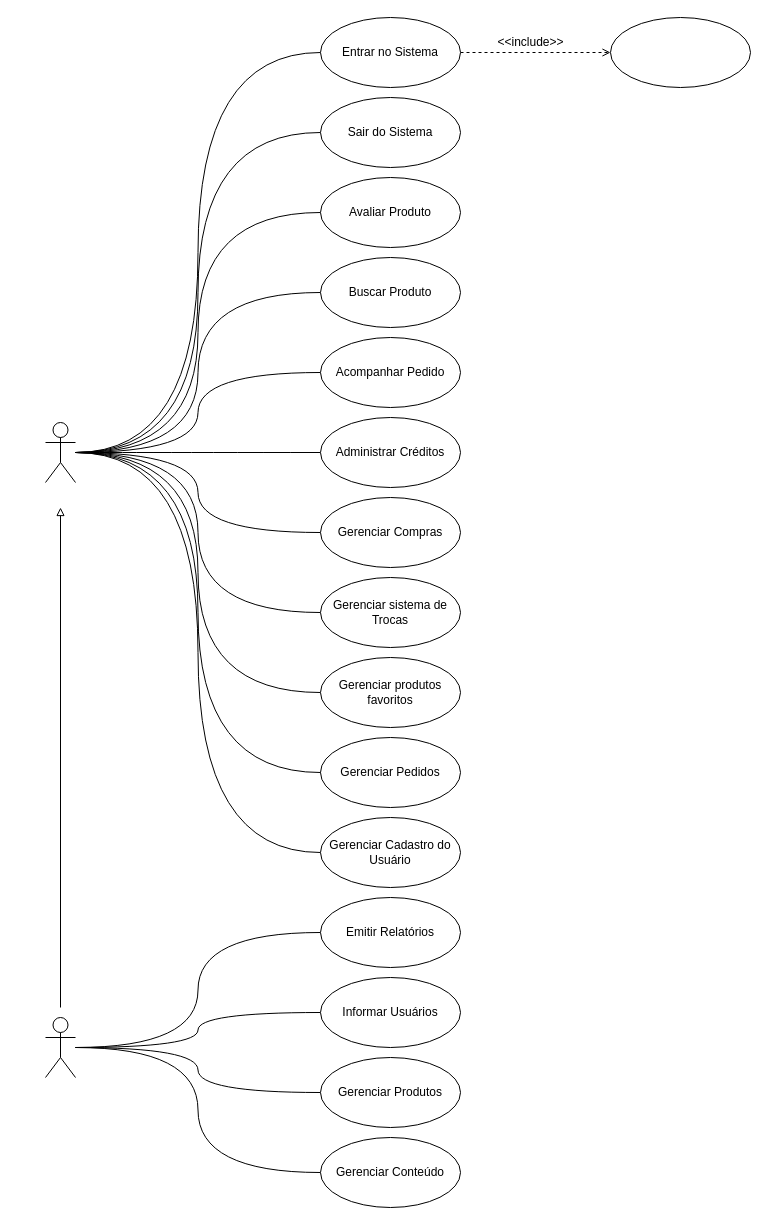
The diagram is 768 pixels wide and 1225 high, and some of its shapes have lost their labels. The centre of each missing label's shape, as x and y in pixels:
"Administrador" goes at (x=60, y=1047).
"Usuário Comum" goes at (x=60, y=452).
"Validar Senha" goes at (x=680, y=52).
